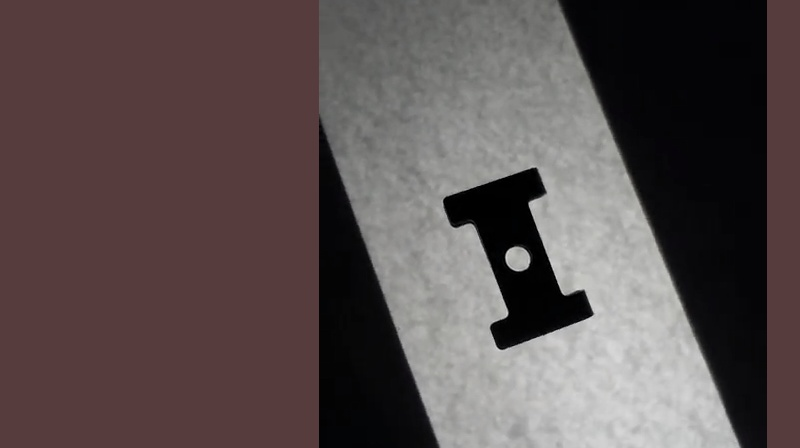O002: (440, 165, 595, 352)
